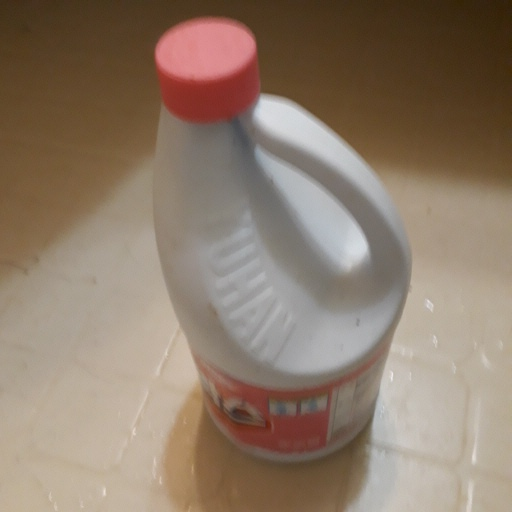Plastic_1: (154, 12, 412, 466)
